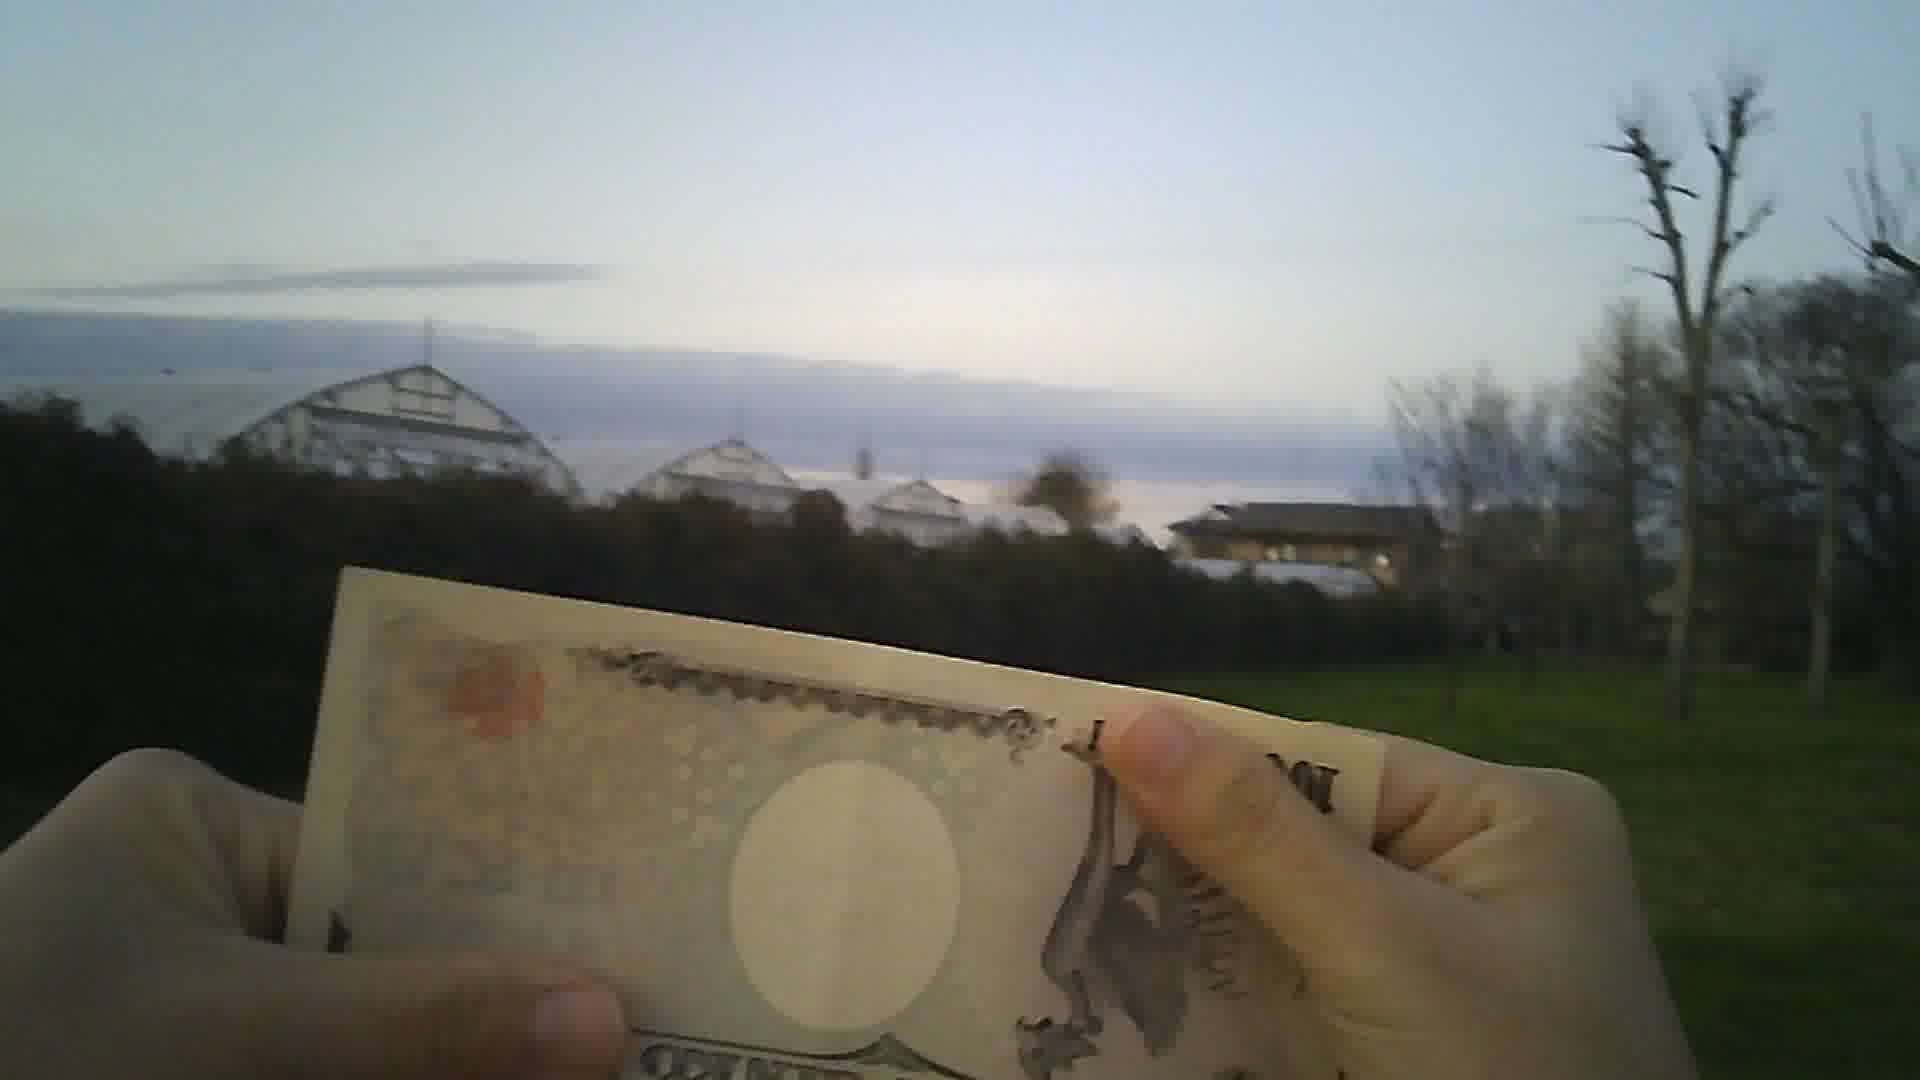10,000 Yen: (249, 538, 1382, 1079)
